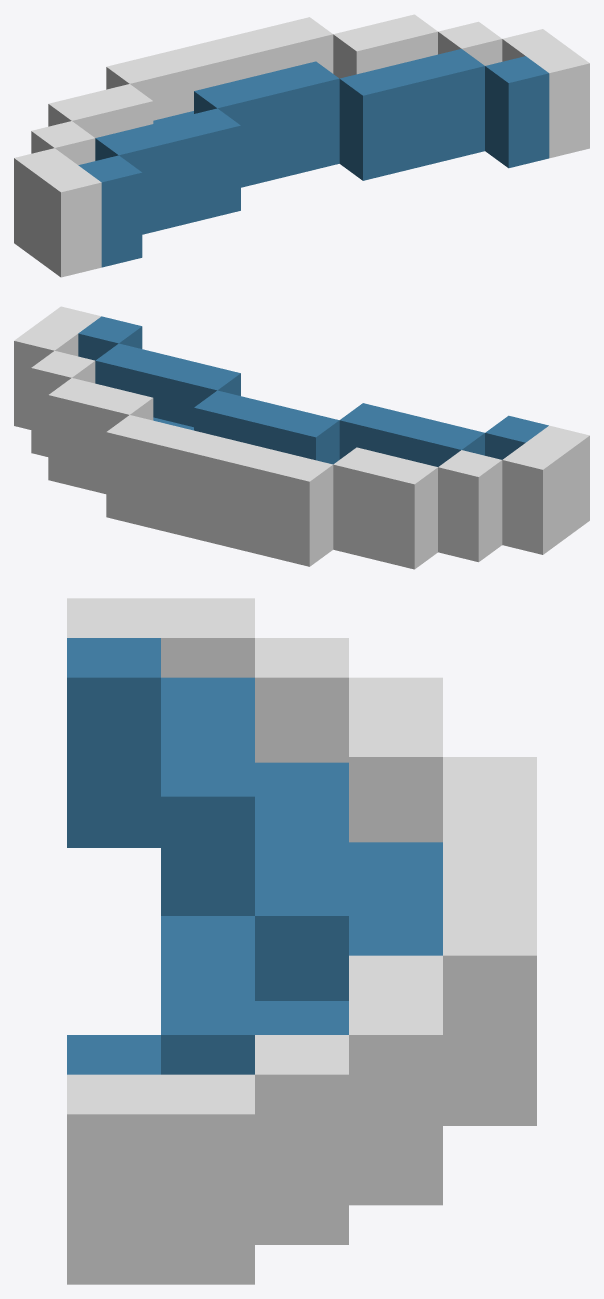
The model's file is волна5.obj.
3 views of the same model, one above another, from view 1: azimuth 30°, elevation 25°; view 2: azimuth 150°, elevation 25°; view 3: azimuth 270°, elevation 25° (orthographic). The views are drawn at different scales.
Size of the model in its own units: 1.3 by 0.2 by 0.5.
Materials: 1 (1 with a texture image).
